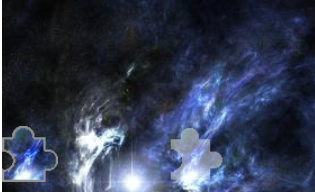target: (167, 126, 229, 184)
